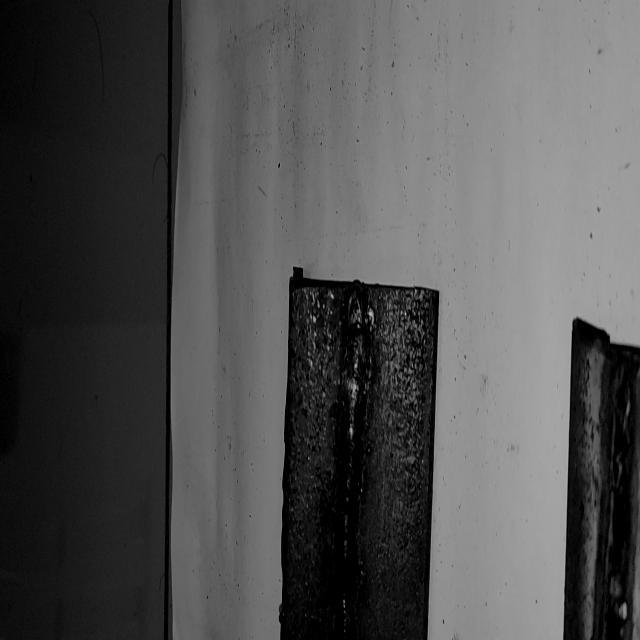Welding Line: (332, 287, 368, 640)
Workpiece: (280, 261, 441, 640), (562, 312, 640, 640)
